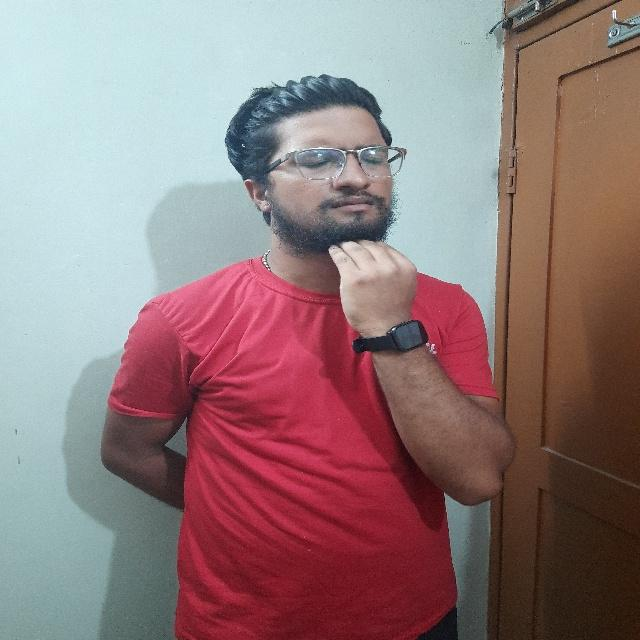Chin Flick: (242, 67, 430, 349)
